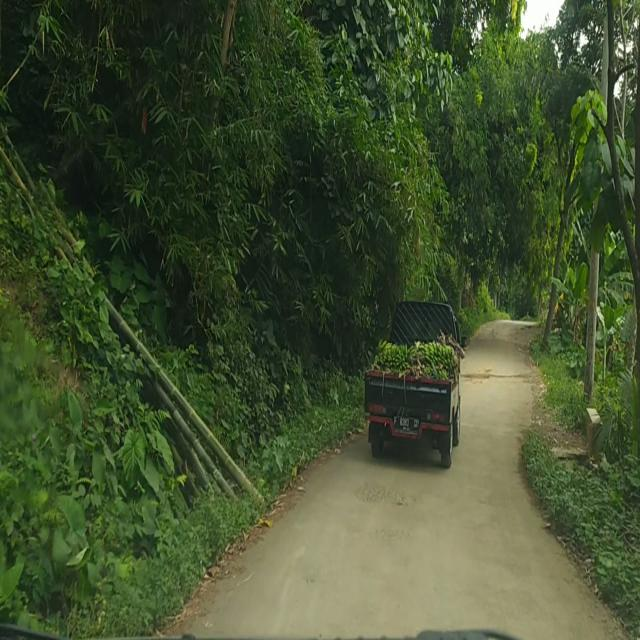Drain Hole: (347, 484, 408, 504)
